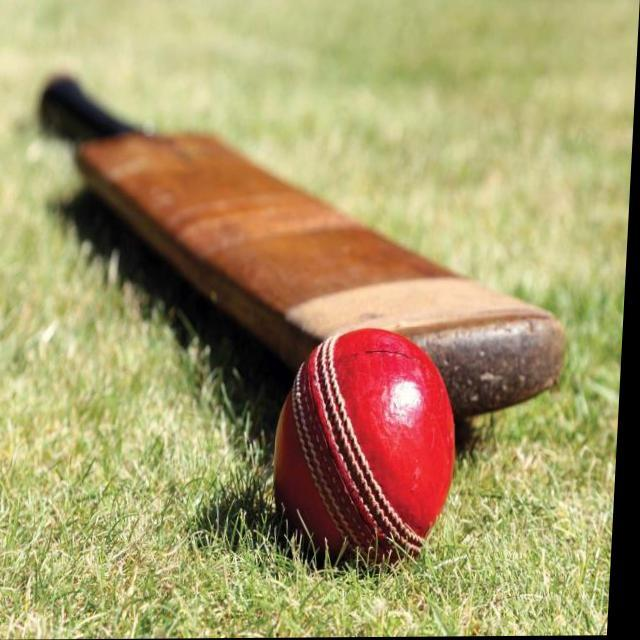cricket ball: (279, 329, 461, 569)
